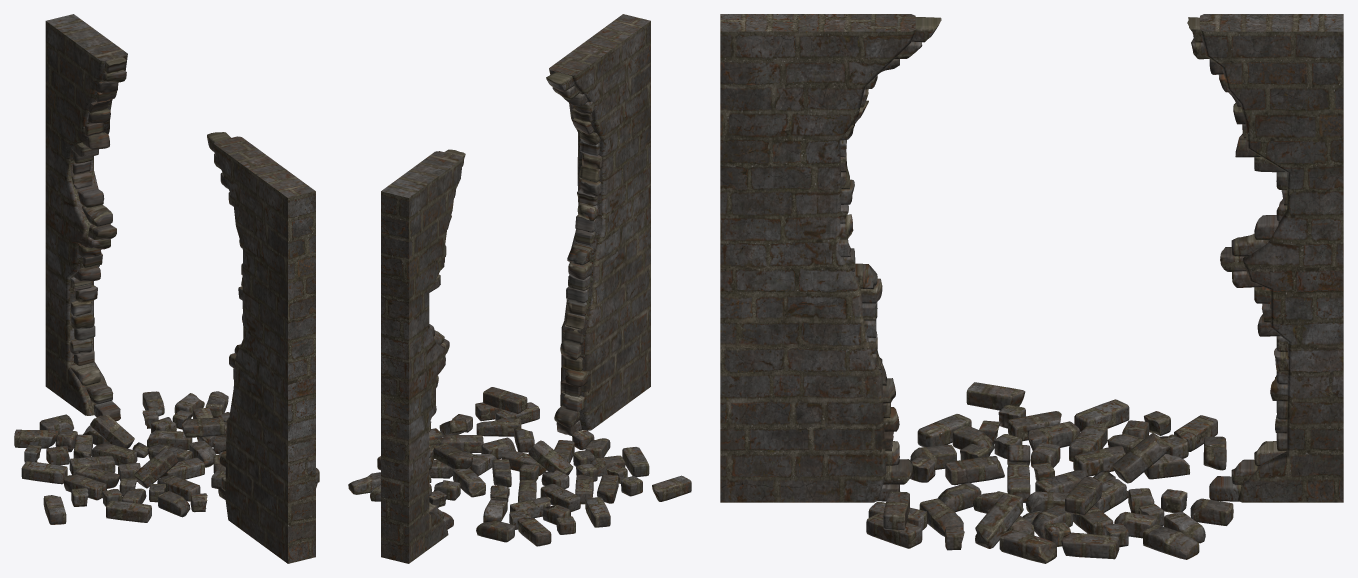
File: Basement_Corridor_A_Wall_Double_Sided_Broken_3m.glb
3 renders of one model, left to right at view 1: azimuth 30°, elevation 25°; view 2: azimuth 150°, elevation 25°; view 3: azimuth 270°, elevation 25°, orthographic. The views are drawn at different scales.
Visible parts, largest first — view 1: Basement_Corridor_A_Wall_Double_Sided_Broken_3m, Brick_Debris_Ground, Brick_Debris_Wall; view 2: Basement_Corridor_A_Wall_Double_Sided_Broken_3m, Brick_Debris_Ground, Brick_Debris_Wall; view 3: Basement_Corridor_A_Wall_Double_Sided_Broken_3m, Brick_Debris_Ground, Brick_Debris_Wall.
Boxes of the visible parts, left/top/right/bottom form: Basement_Corridor_A_Wall_Double_Sided_Broken_3m: left=45, top=14, right=315, bottom=563; Brick_Debris_Ground: left=14, top=391, right=319, bottom=524; Brick_Debris_Wall: left=70, top=57, right=242, bottom=499; Basement_Corridor_A_Wall_Double_Sided_Broken_3m: left=381, top=14, right=650, bottom=563; Brick_Debris_Ground: left=348, top=387, right=691, bottom=546; Brick_Debris_Wall: left=429, top=72, right=601, bottom=529; Basement_Corridor_A_Wall_Double_Sided_Broken_3m: left=720, top=14, right=1343, bottom=502; Brick_Debris_Ground: left=866, top=382, right=1233, bottom=563; Brick_Debris_Wall: left=838, top=17, right=1288, bottom=501.
Bounding box in the file's own units: 1.91 × 2.51 × 3.
Materials: 1 (1 with a texture image).
